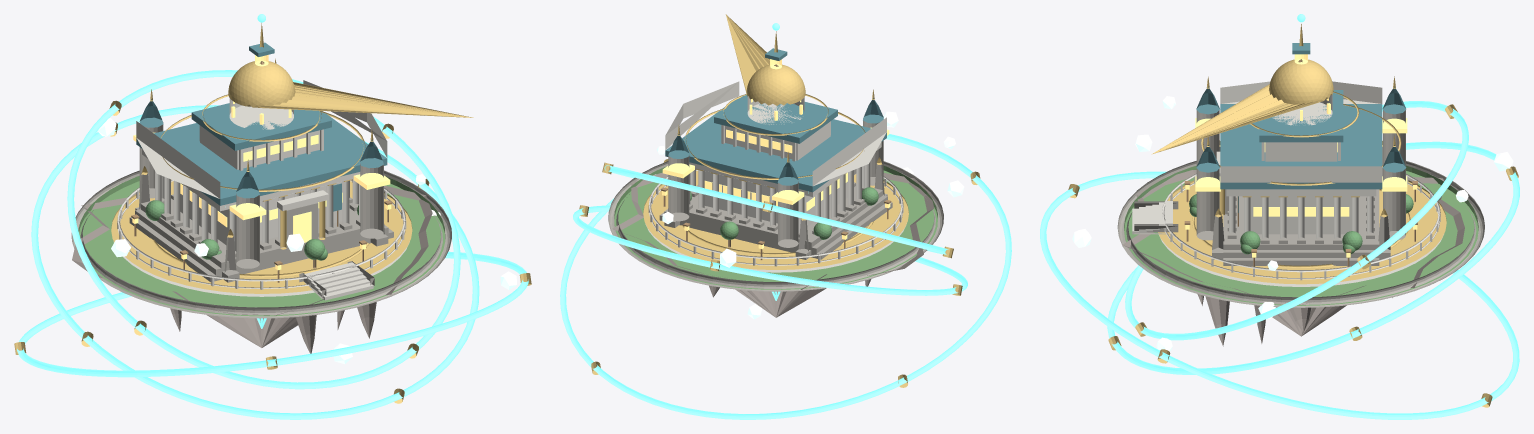
File: skyhold.glb
3 renders of one model, left to right at view 1: azimuth 30°, elevation 25°; view 2: azimuth 150°, elevation 25°; view 3: azimuth 270°, elevation 25°, orthographic. The views are drawn at different scales.
Visible parts, largest first — view 1: island_top_grass, agring_2, roof_slab, agring_0, plaza_trim, island_rim, dome, agring_1, island_rock, tier2_roof, pediment_-1, podium_2 (+19 smaller); view 2: island_top_grass, agring_1, plaza_trim, roof_slab, island_rim, dome, agring_0, tier2_roof, island_rock, agring_2, pediment_-1, podium_2 (+15 smaller); view 3: island_top_grass, plaza_trim, roof_slab, agring_1, island_rim, dome, agring_0, agring_2, pediment_1, island_rock, tier2_roof, podium_2 (+16 smaller).
Part boxes in pixels (x1,y1,x2,y2): island_top_grass: (78, 176, 445, 316); agring_2: (67, 70, 460, 389); roof_slab: (136, 111, 387, 205); agring_0: (31, 105, 479, 419); plaza_trim: (111, 179, 412, 293); island_rim: (71, 170, 451, 318); dome: (228, 61, 473, 117); agring_1: (17, 251, 528, 377); island_rock: (72, 185, 432, 347); tier2_roof: (191, 103, 331, 150); pediment_-1: (136, 121, 220, 198); podium_2: (140, 198, 360, 268); island_top_grass: (614, 166, 937, 289); agring_1: (560, 134, 1011, 419); plaza_trim: (643, 170, 908, 269); roof_slab: (665, 98, 886, 192); island_rim: (608, 161, 943, 291); dome: (725, 14, 805, 105); agring_0: (573, 205, 967, 295); tier2_roof: (714, 94, 837, 143); island_rock: (612, 173, 933, 317); agring_2: (604, 165, 948, 254); pediment_-1: (812, 117, 886, 185); podium_2: (689, 184, 882, 247); island_top_grass: (1124, 165, 1478, 305); plaza_trim: (1158, 180, 1446, 284); roof_slab: (1220, 104, 1382, 189); agring_1: (1040, 171, 1519, 419); island_rim: (1117, 161, 1484, 307); dome: (1151, 59, 1333, 154); agring_0: (1107, 141, 1519, 374); agring_2: (1125, 101, 1468, 340); pediment_1: (1220, 166, 1382, 182); island_rock: (1122, 170, 1464, 336); tier2_roof: (1259, 90, 1343, 142); podium_2: (1223, 189, 1379, 249).
Bounding box in the file's own units: 83.05 × 63.55 × 79.9.
